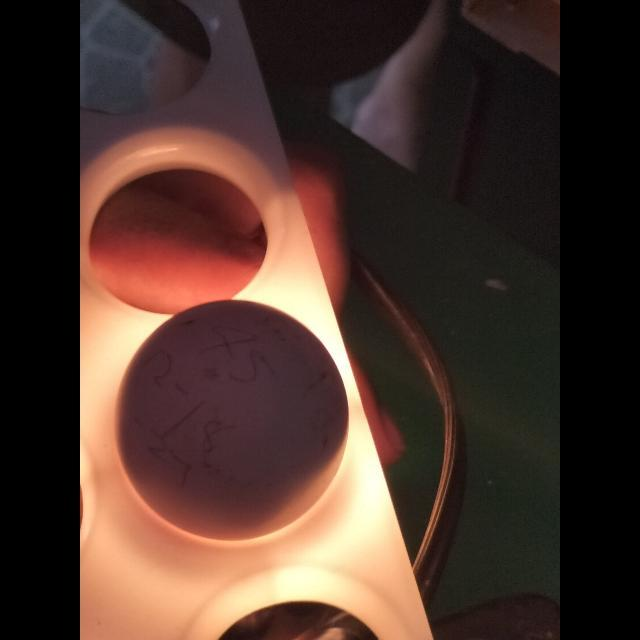B - Fair: (112, 301, 348, 539)
